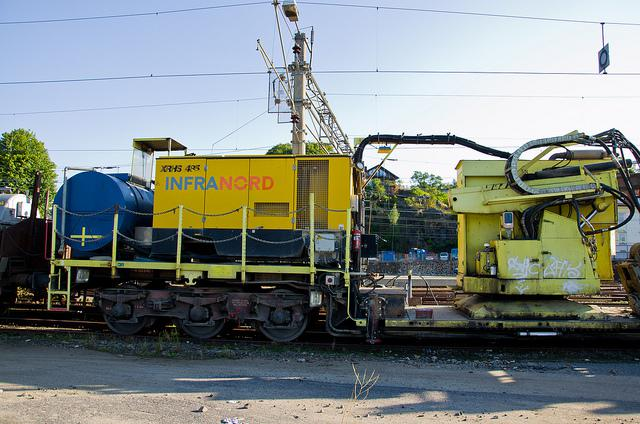Train: (48, 153, 389, 346)
